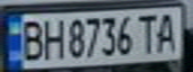3: (100, 14, 121, 57)
6: (115, 12, 139, 56)
7: (81, 15, 103, 58)
8: (63, 15, 84, 58)
A: (151, 9, 181, 54)
B: (15, 17, 45, 62)
H: (39, 16, 66, 61)
T: (136, 11, 160, 55)
